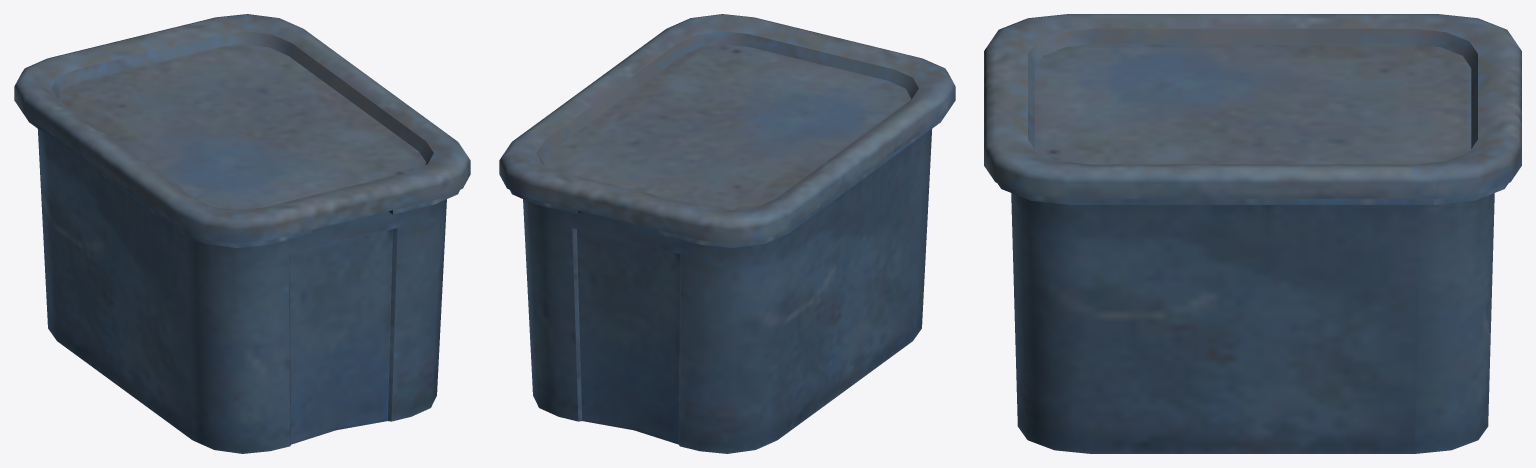
The model's file is 073_plasticbox01a.fbx.
3 renders of one model, left to right at view 1: azimuth 30°, elevation 25°; view 2: azimuth 150°, elevation 25°; view 3: azimuth 270°, elevation 25°, orthographic. The views are drawn at different scales.
Parts seen in each view (by area): view 1: LOD_1_Group_0_Sub_1__sm30_073_PlasticBox01A_A_Mat, LOD_1_Group_1_Sub_1__sm30_073_PlasticBox01A_A_Mat; view 2: LOD_1_Group_0_Sub_1__sm30_073_PlasticBox01A_A_Mat, LOD_1_Group_1_Sub_1__sm30_073_PlasticBox01A_A_Mat; view 3: LOD_1_Group_0_Sub_1__sm30_073_PlasticBox01A_A_Mat, LOD_1_Group_1_Sub_1__sm30_073_PlasticBox01A_A_Mat.
Part boxes in pixels (<box>): LOD_1_Group_0_Sub_1__sm30_073_PlasticBox01A_A_Mat: <box>24,115,459,453</box>; LOD_1_Group_1_Sub_1__sm30_073_PlasticBox01A_A_Mat: <box>14,14,470,243</box>; LOD_1_Group_0_Sub_1__sm30_073_PlasticBox01A_A_Mat: <box>510,115,945,453</box>; LOD_1_Group_1_Sub_1__sm30_073_PlasticBox01A_A_Mat: <box>499,14,955,243</box>; LOD_1_Group_0_Sub_1__sm30_073_PlasticBox01A_A_Mat: <box>997,183,1508,453</box>; LOD_1_Group_1_Sub_1__sm30_073_PlasticBox01A_A_Mat: <box>984,14,1521,198</box>.
Size of the model in its own units: 0.3112 by 0.2587 by 0.4301.
